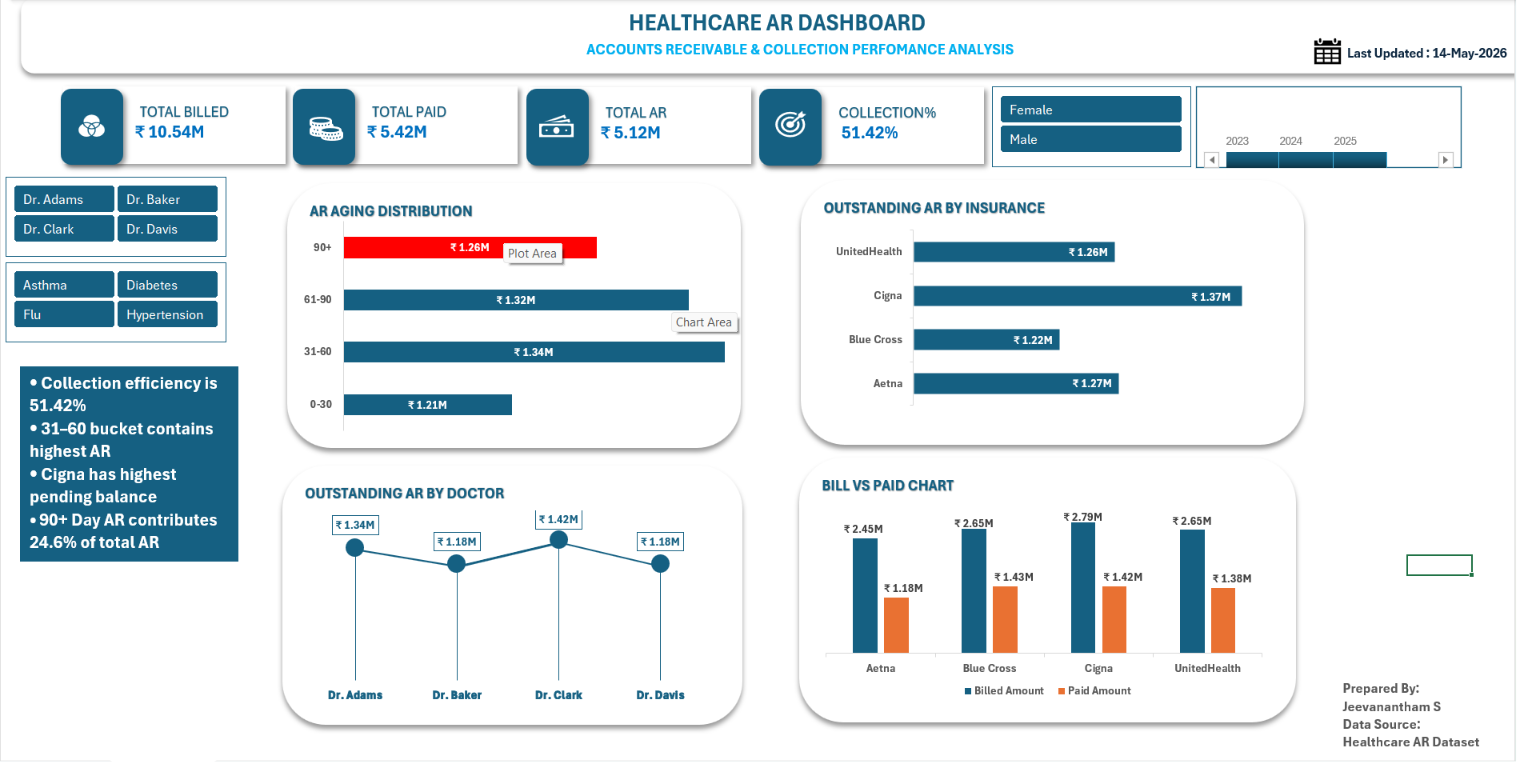

What the dashboard file says about the page in this screenshot:
{"tool":"powerbi","page":{"name":"DASHBOARD","canvas":[1280,720],"ordinal":0},"visuals":[{"type":"cardVisual","title":"TOTAL BILLED","fields":{"Data":["ORIGINA_DATA.Total billed"]},"box":[560.1,81.9,174.9,84.4],"z":0,"group":"g1"},{"type":"slicer","title":"INSURANCE","fields":{"Values":["ORIGINA_DATA.Insurance"]},"box":[558.8,183.4,178.5,97.8],"z":0,"group":"g2"},{"type":"clusteredBarChart","title":"AR AGING DISTRIBUTION","fields":{"Category":["ORIGINA_DATA.Aging Bucket"],"Y":["ORIGINA_DATA.Total AR"]},"box":[20.8,393.8,529.5,316.7],"z":0},{"type":"clusteredBarChart","title":"OUTSTANDING BY INSURANCE","fields":{"Category":["ORIGINA_DATA.Insurance"],"Y":["ORIGINA_DATA.Total AR"]},"box":[20.8,81.9,529.5,299.6],"z":1000},{"type":"cardVisual","title":"TOTAL PAID","fields":{"Data":["ORIGINA_DATA.Total Paid"]},"box":[735,81.9,177.3,84.4],"z":1000,"group":"g1"},{"type":"slicer","title":"DOCTOR","fields":{"Values":["ORIGINA_DATA.DoctorName"]},"box":[736.1,183.4,178.5,97.8],"z":1000,"group":"g2"},{"type":"cardVisual","title":"TOTAL AR","fields":{"Data":["ORIGINA_DATA.Total AR"]},"box":[912.3,81.9,161.4,84.4],"z":2000,"group":"g1"},{"type":"slicer","title":"DIAGNOSIS","fields":{"Values":["ORIGINA_DATA.Diagnosis"]},"box":[914.4,184,178.5,96.6],"z":2000,"group":"g2"},{"type":"clusteredColumnChart","title":"BILLING VS COLLECTION","fields":{"Category":["ORIGINA_DATA.Insurance"],"Y":["ORIGINA_DATA.Total billed","ORIGINA_DATA.Total Paid"]},"box":[560.1,287.4,513.6,305.7],"z":2000},{"type":"cardVisual","title":"COLLECTION %","fields":{"Data":["ORIGINA_DATA.Collection %"]},"box":[1073.7,81.9,178.5,84.4],"z":3000,"group":"g1"},{"type":"slicer","title":"YEAR","fields":{"Values":["ORIGINA_DATA.ClaimSubmitDate.Variation.Date Hierarchy.Year"]},"box":[1093.2,183.9,178,97.8],"z":3000,"group":"g2"},{"type":"slicer","title":"GENDER","fields":{"Values":["ORIGINA_DATA.Gender"]},"box":[1094.4,287.4,178.5,97.8],"z":3000},{"type":"group","id":"g1","title":"Group 1","box":[560.1,81.9,692.1,84.4],"z":4000},{"type":"textbox","box":[0,0,1280.3,51.4],"z":5000},{"type":"textbox","box":[0,37.9,1280.3,33],"z":6000},{"type":"group","id":"g2","title":"Group 2","box":[558.8,183.4,712.9,97.8],"z":7000},{"type":"textbox","box":[890.2,593.1,338.7,117.4],"z":8000},{"type":"textbox","box":[1073.6,0,199.3,37.9],"z":9000}]}

Visuals, with their boxes on the page's 1280x720 design canvas (x1, y1, x2, y2). These are canvas units, not pixel positions in the 1517x762 screenshot, which may show the page scaled, cropped or inside an application window:
"TOTAL BILLED" cardVisual: {"x1": 560, "y1": 82, "x2": 735, "y2": 166}
"INSURANCE" slicer: {"x1": 559, "y1": 183, "x2": 737, "y2": 281}
"AR AGING DISTRIBUTION" clusteredBarChart: {"x1": 21, "y1": 394, "x2": 550, "y2": 710}
"OUTSTANDING BY INSURANCE" clusteredBarChart: {"x1": 21, "y1": 82, "x2": 550, "y2": 382}
"TOTAL PAID" cardVisual: {"x1": 735, "y1": 82, "x2": 912, "y2": 166}
"DOCTOR" slicer: {"x1": 736, "y1": 183, "x2": 915, "y2": 281}
"TOTAL AR" cardVisual: {"x1": 912, "y1": 82, "x2": 1074, "y2": 166}
"DIAGNOSIS" slicer: {"x1": 914, "y1": 184, "x2": 1093, "y2": 281}
"BILLING VS COLLECTION" clusteredColumnChart: {"x1": 560, "y1": 287, "x2": 1074, "y2": 593}
"COLLECTION %" cardVisual: {"x1": 1074, "y1": 82, "x2": 1252, "y2": 166}
"YEAR" slicer: {"x1": 1093, "y1": 184, "x2": 1271, "y2": 282}
"GENDER" slicer: {"x1": 1094, "y1": 287, "x2": 1273, "y2": 385}
"Group 1" group: {"x1": 560, "y1": 82, "x2": 1252, "y2": 166}
textbox: {"x1": 0, "y1": 0, "x2": 1280, "y2": 51}
textbox: {"x1": 0, "y1": 38, "x2": 1280, "y2": 71}
"Group 2" group: {"x1": 559, "y1": 183, "x2": 1272, "y2": 281}
textbox: {"x1": 890, "y1": 593, "x2": 1229, "y2": 710}
textbox: {"x1": 1074, "y1": 0, "x2": 1273, "y2": 38}
